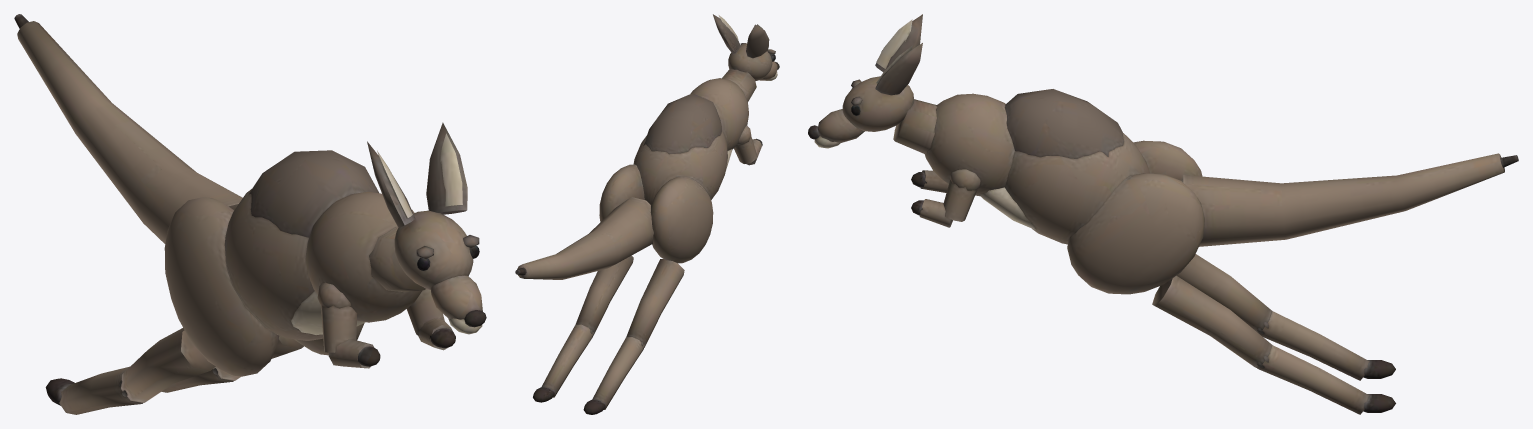
The model's file is kangaroo_hop.glb.
3 renders of one model, left to right at view 1: azimuth 30°, elevation 25°; view 2: azimuth 150°, elevation 25°; view 3: azimuth 270°, elevation 25°, orthographic. The views are drawn at different scales.
Parts seen in each view (by area): view 1: kangaroo_hop; view 2: kangaroo_hop; view 3: kangaroo_hop.
Boxes of the visible parts, x1,y1,x2,y2 form: kangaroo_hop: (14,14,486,414); kangaroo_hop: (515,14,779,414); kangaroo_hop: (808,14,1518,414).
Bounding box in the file's own units: 0.43 × 1.21 × 2.12.
Materials: 1 (1 with a texture image).
